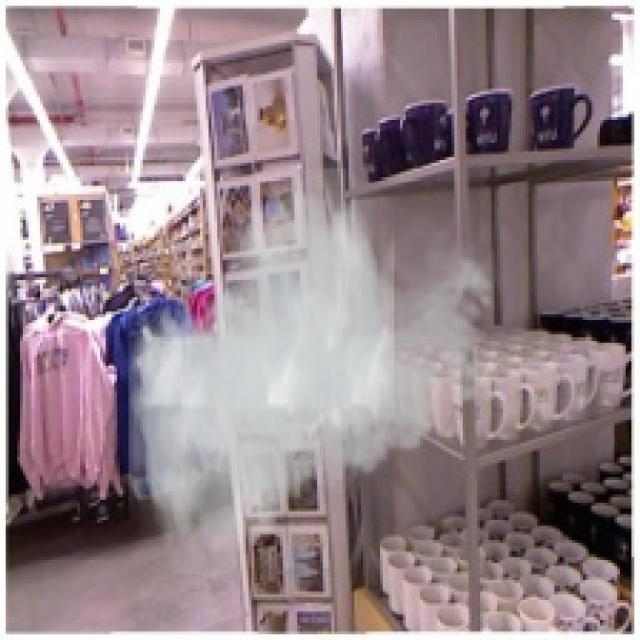smoke: (128, 169, 506, 574)
